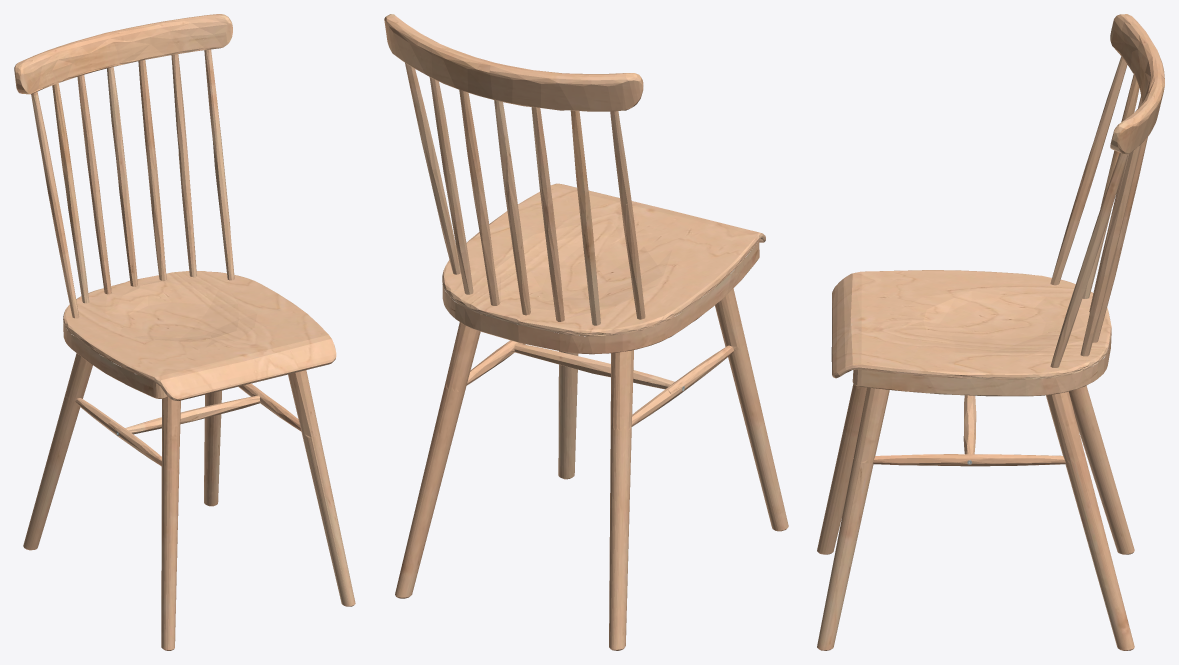
3 renders of one model, left to right at view 1: azimuth 30°, elevation 25°; view 2: azimuth 150°, elevation 25°; view 3: azimuth 270°, elevation 25°, orthographic. The views are drawn at different scales.
Visible parts, largest first — view 1: ASY_ART_90606820_S01_NV01_NODE_ID_f9465405-1538-4ffb-ab2b-6e; view 2: ASY_ART_90606820_S01_NV01_NODE_ID_f9465405-1538-4ffb-ab2b-6e; view 3: ASY_ART_90606820_S01_NV01_NODE_ID_f9465405-1538-4ffb-ab2b-6e.
Boxes of the visible parts, x1=… form: ASY_ART_90606820_S01_NV01_NODE_ID_f9465405-1538-4ffb-ab2b-6e: x1=14, y1=14, x2=355, y2=650; ASY_ART_90606820_S01_NV01_NODE_ID_f9465405-1538-4ffb-ab2b-6e: x1=384, y1=14, x2=788, y2=650; ASY_ART_90606820_S01_NV01_NODE_ID_f9465405-1538-4ffb-ab2b-6e: x1=817, y1=14, x2=1164, y2=650.
Bounding box in the file's own units: 0.4 × 0.86 × 0.51.
Materials: 1 (1 with a texture image).
